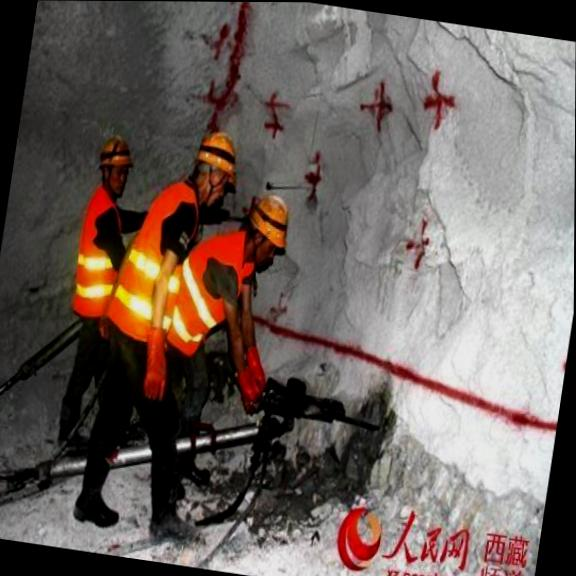safety_vest: (111, 179, 192, 387), (171, 215, 249, 393), (64, 189, 126, 355)
